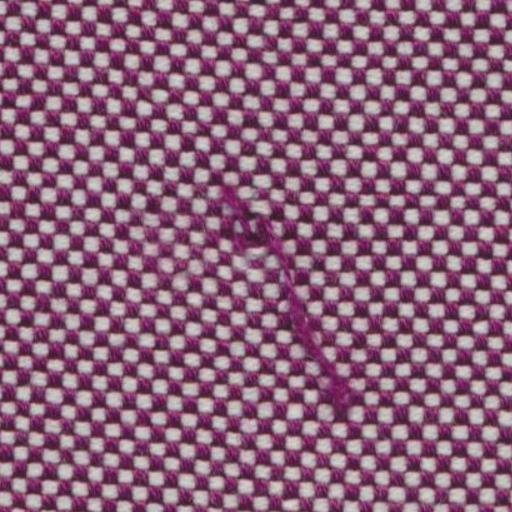DuanSha: (198, 159, 365, 430)
